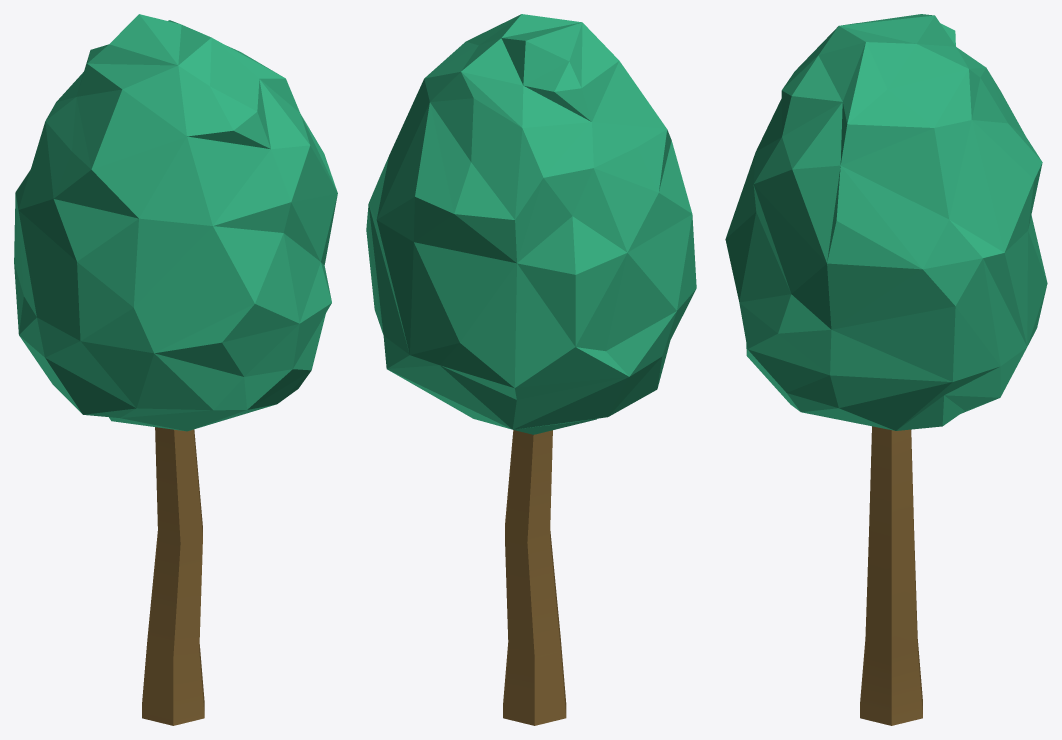
File: Forest_Tree_1.fbx
The picture shows the model from 3 angles, left to right: view 1: azimuth 30°, elevation 25°; view 2: azimuth 150°, elevation 25°; view 3: azimuth 270°, elevation 25°; orthographic projection.
Visible parts, largest first — view 1: polySurface1; view 2: polySurface1; view 3: polySurface1.
Part boxes in pixels (x1,y1,x2,y2): polySurface1: (14,14,337,725); polySurface1: (366,14,696,725); polySurface1: (725,14,1047,725).
Bounding box in the file's own units: 8.87 × 20.86 × 8.84.
